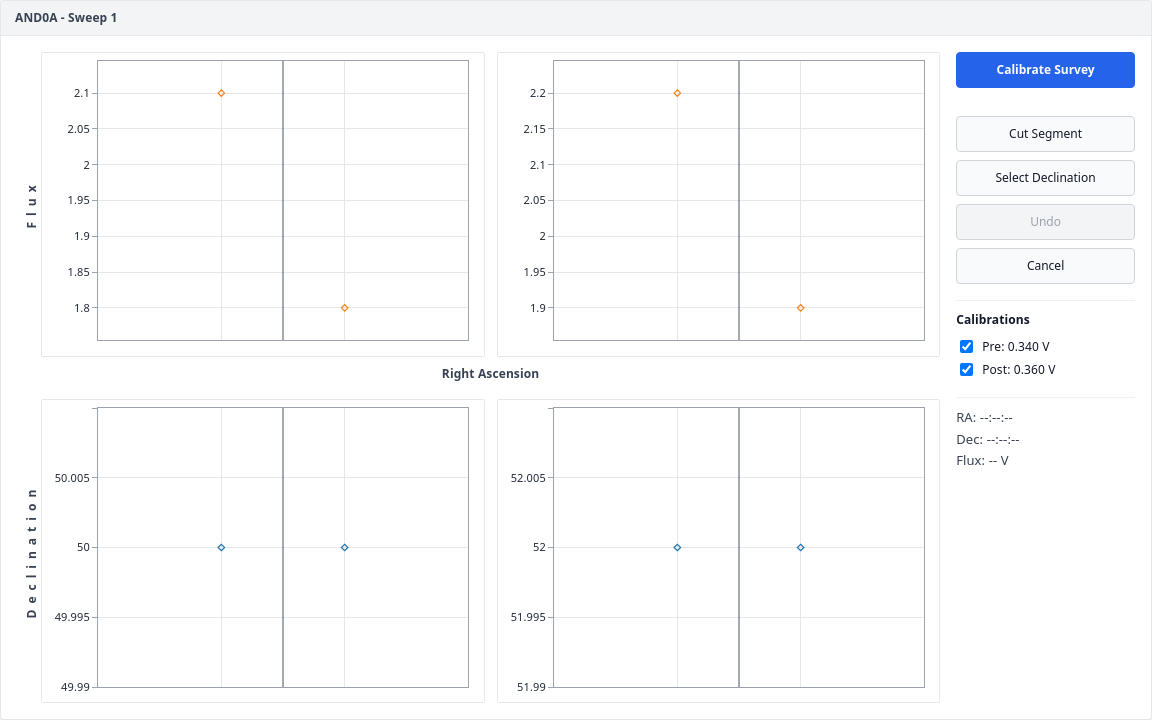
it: Calibrate Survey surfaces a failure as a modal warning (BUG-013)
The width and height of the screenshot is (1152, 720).
Click the button "Calibrate Survey": (1046, 70) [956,52,1135,88]
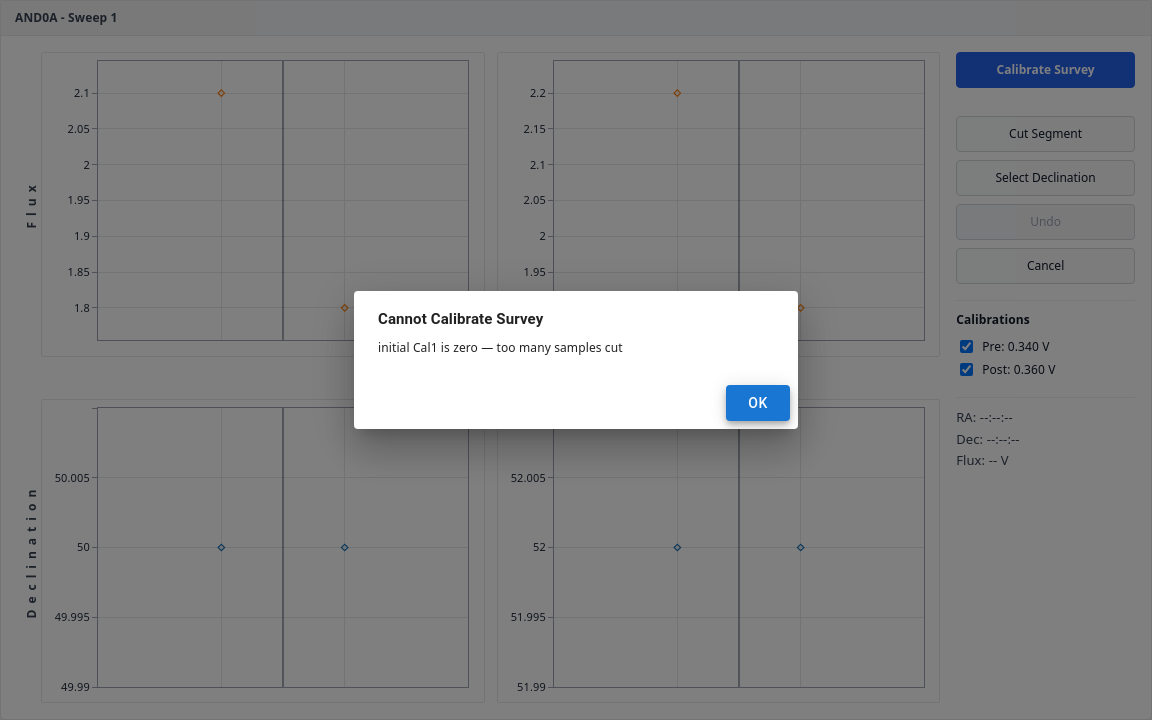
Expected: the heading "Cannot Calibrate Survey" is shown, [378,310,543,328]
Expected: the text "initial Cal1 is zero — too many samples cut" is shown, [378,339,623,356]
Click the button "OK": (758, 403) [726,385,790,421]
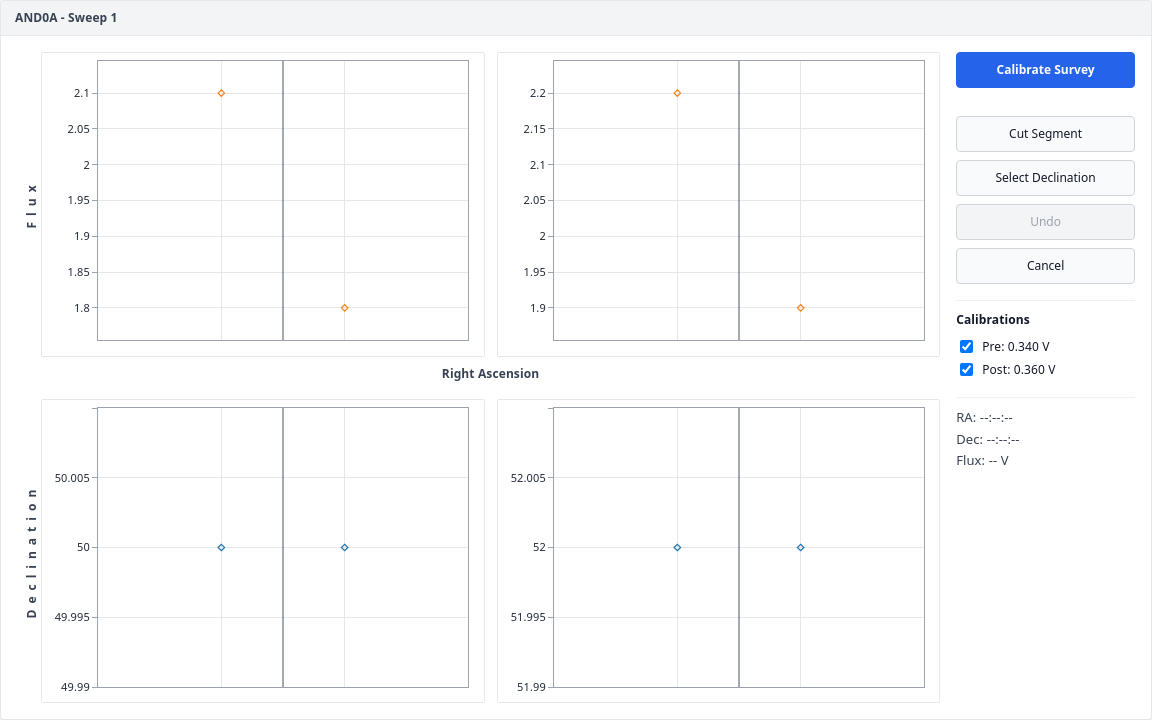
Expected: the heading "Cannot Calibrate Survey" is gone
